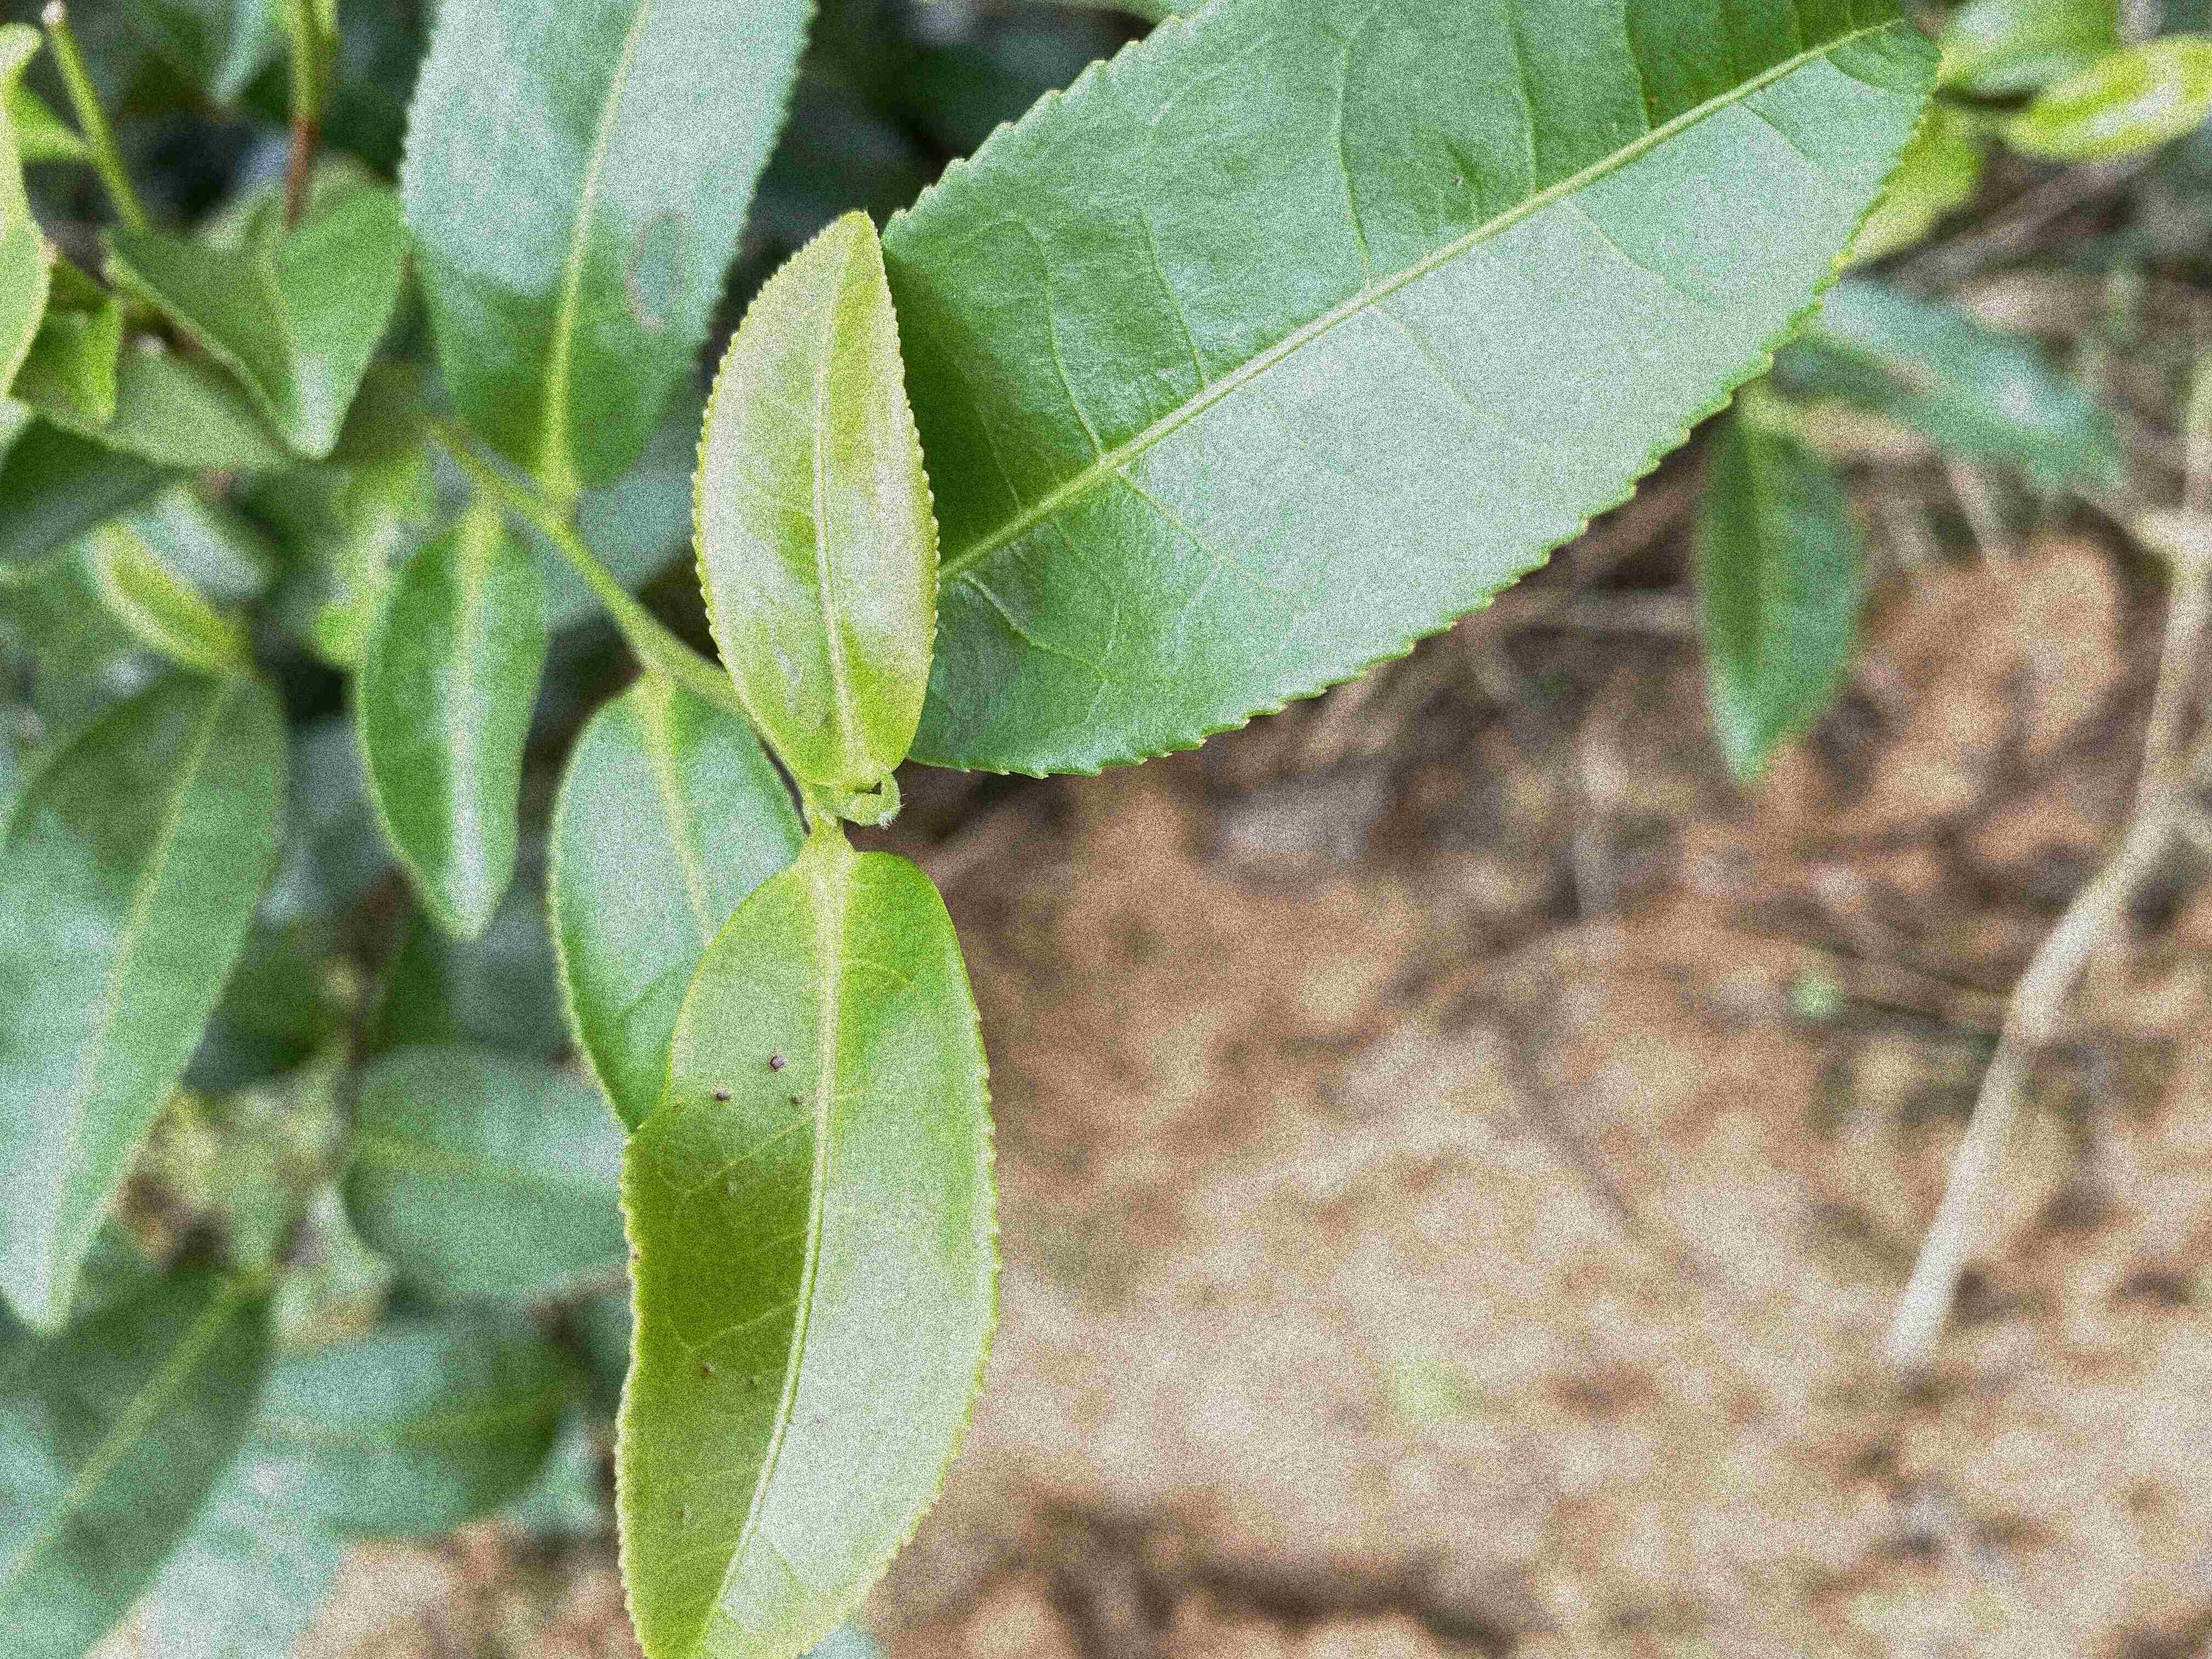tanju_low: (613, 840, 1001, 1657)
